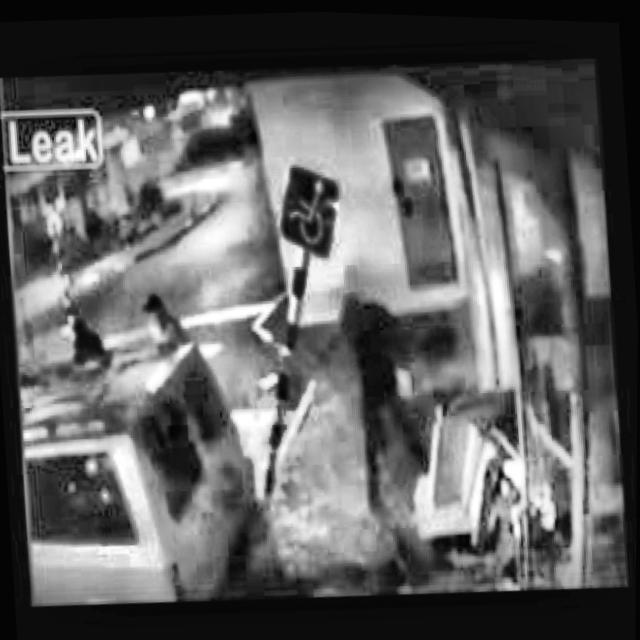burglary: (97, 257, 628, 615)
